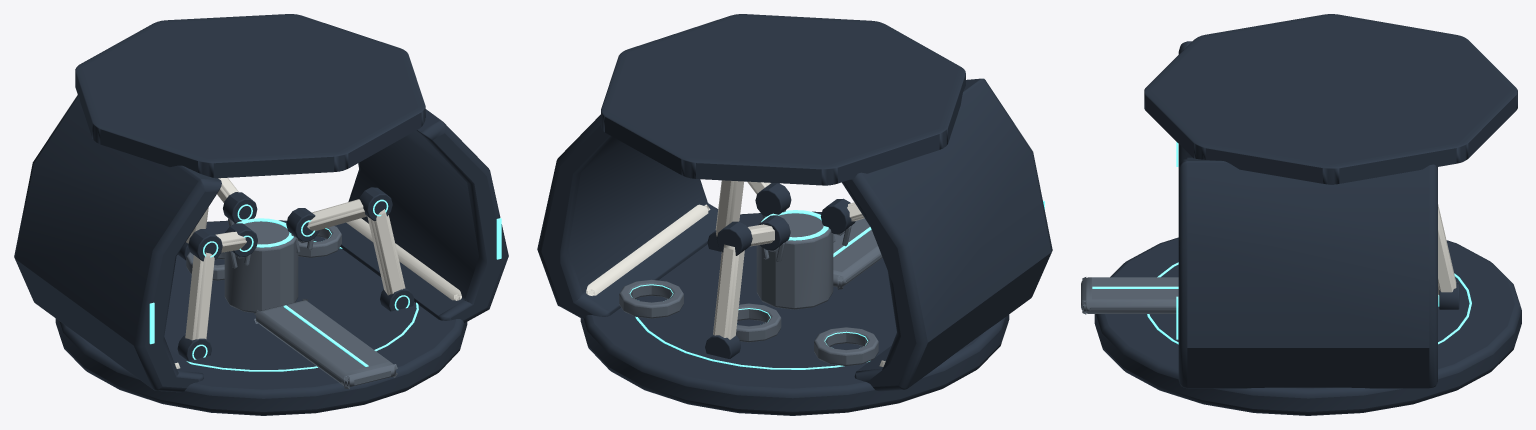
The model's file is cordis_workshop.glb.
The picture shows the model from 3 angles, left to right: view 1: azimuth 30°, elevation 25°; view 2: azimuth 150°, elevation 25°; view 3: azimuth 270°, elevation 25°; orthographic projection. The views are drawn at different scales.
Visible parts, largest first — view 1: cordis_workshop__canopy, cordis_workshop__shell_left, cordis_workshop__floor, cordis_workshop__shell_right, cordis_workshop__rail, cordis_workshop__manufacturing_core, cordis_workshop__arm_02_base, cordis_workshop__arm_01_base, cordis_workshop__shell_ivory__02, cordis_workshop__arm_01_joint, cordis_workshop__dock_03_frame, cordis_workshop__arm_03_bearing__03 (+7 smaller); view 2: cordis_workshop__canopy, cordis_workshop__shell_left, cordis_workshop__floor, cordis_workshop__shell_right, cordis_workshop__manufacturing_core, cordis_workshop__arm_03_base, cordis_workshop__rail, cordis_workshop__shell_ivory__02, cordis_workshop__dock_03_frame, cordis_workshop__dock_01_frame, cordis_workshop__dock_02_frame, cordis_workshop__arm_01_base (+6 smaller); view 3: cordis_workshop__shell_right, cordis_workshop__canopy, cordis_workshop__floor, cordis_workshop__rail, cordis_workshop__arm_03_base, cordis_workshop__deck_inlay, cordis_workshop__arm_03_bearing.
Boxes of the visible parts, left/top/right/bottom form: cordis_workshop__canopy: left=75, top=14, right=425, bottom=178; cordis_workshop__shell_left: left=14, top=94, right=221, bottom=392; cordis_workshop__floor: left=55, top=220, right=467, bottom=415; cordis_workshop__shell_right: left=334, top=109, right=508, bottom=322; cordis_workshop__rail: left=254, top=298, right=397, bottom=389; cordis_workshop__manufacturing_core: left=224, top=221, right=298, bottom=312; cordis_workshop__arm_02_base: left=185, top=252, right=214, bottom=340; cordis_workshop__arm_01_base: left=367, top=209, right=405, bottom=295; cordis_workshop__shell_ivory__02: left=346, top=218, right=461, bottom=300; cordis_workshop__arm_01_joint: left=307, top=199, right=367, bottom=230; cordis_workshop__dock_03_frame: left=298, top=226, right=341, bottom=257; cordis_workshop__arm_03_bearing__03: left=223, top=192, right=257, bottom=223; cordis_workshop__canopy: left=601, top=14, right=965, bottom=185; cordis_workshop__shell_left: left=842, top=78, right=1052, bottom=391; cordis_workshop__floor: left=580, top=211, right=1009, bottom=415; cordis_workshop__shell_right: left=537, top=114, right=717, bottom=319; cordis_workshop__manufacturing_core: left=756, top=213, right=833, bottom=309; cordis_workshop__arm_03_base: left=713, top=244, right=744, bottom=339; cordis_workshop__rail: left=833, top=218, right=882, bottom=289; cordis_workshop__shell_ivory__02: left=586, top=204, right=710, bottom=295; cordis_workshop__dock_03_frame: left=619, top=279, right=683, bottom=318; cordis_workshop__dock_01_frame: left=814, top=327, right=878, bottom=365; cordis_workshop__dock_02_frame: left=736, top=303, right=781, bottom=342; cordis_workshop__arm_01_base: left=715, top=180, right=744, bottom=236; cordis_workshop__shell_right: left=1178, top=157, right=1437, bottom=388; cordis_workshop__canopy: left=1144, top=14, right=1517, bottom=184; cordis_workshop__floor: left=1094, top=237, right=1521, bottom=415; cordis_workshop__rail: left=1081, top=277, right=1178, bottom=314; cordis_workshop__arm_03_base: left=1438, top=204, right=1456, bottom=295; cordis_workshop__deck_inlay: left=1147, top=262, right=1471, bottom=344; cordis_workshop__arm_03_bearing: left=1439, top=283, right=1459, bottom=309.
Size of the model in its own units: 5 by 3 by 5.
